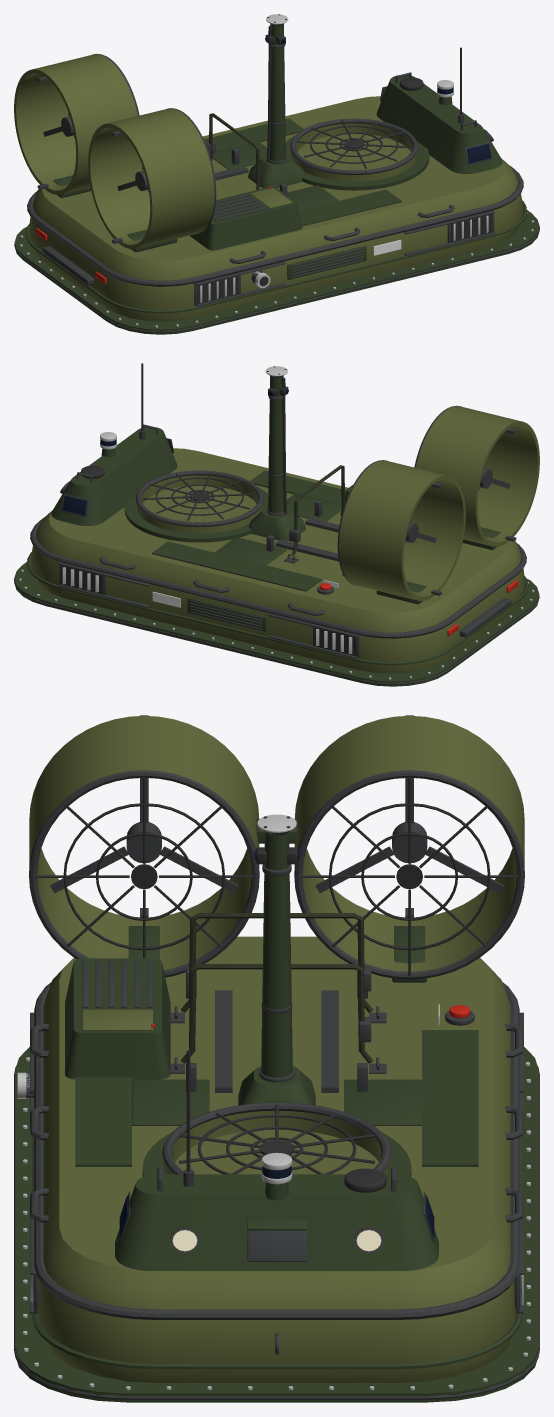
File: hull.glb
3 renders of one model, top to bottom at view 1: azimuth 30°, elevation 25°; view 2: azimuth 150°, elevation 25°; view 3: azimuth 270°, elevation 25°, orthographic. The views are drawn at different scales.
Parts seen in each view (by area): view 1: hull; view 2: hull; view 3: hull.
Part boxes in pixels (x1=…): hull: x1=14, y1=14, x2=539, y2=334; hull: x1=14, y1=363, x2=539, y2=686; hull: x1=14, y1=715, x2=539, y2=1402.
Bounding box in the file's own units: 2.98 × 1.54 × 1.78.
